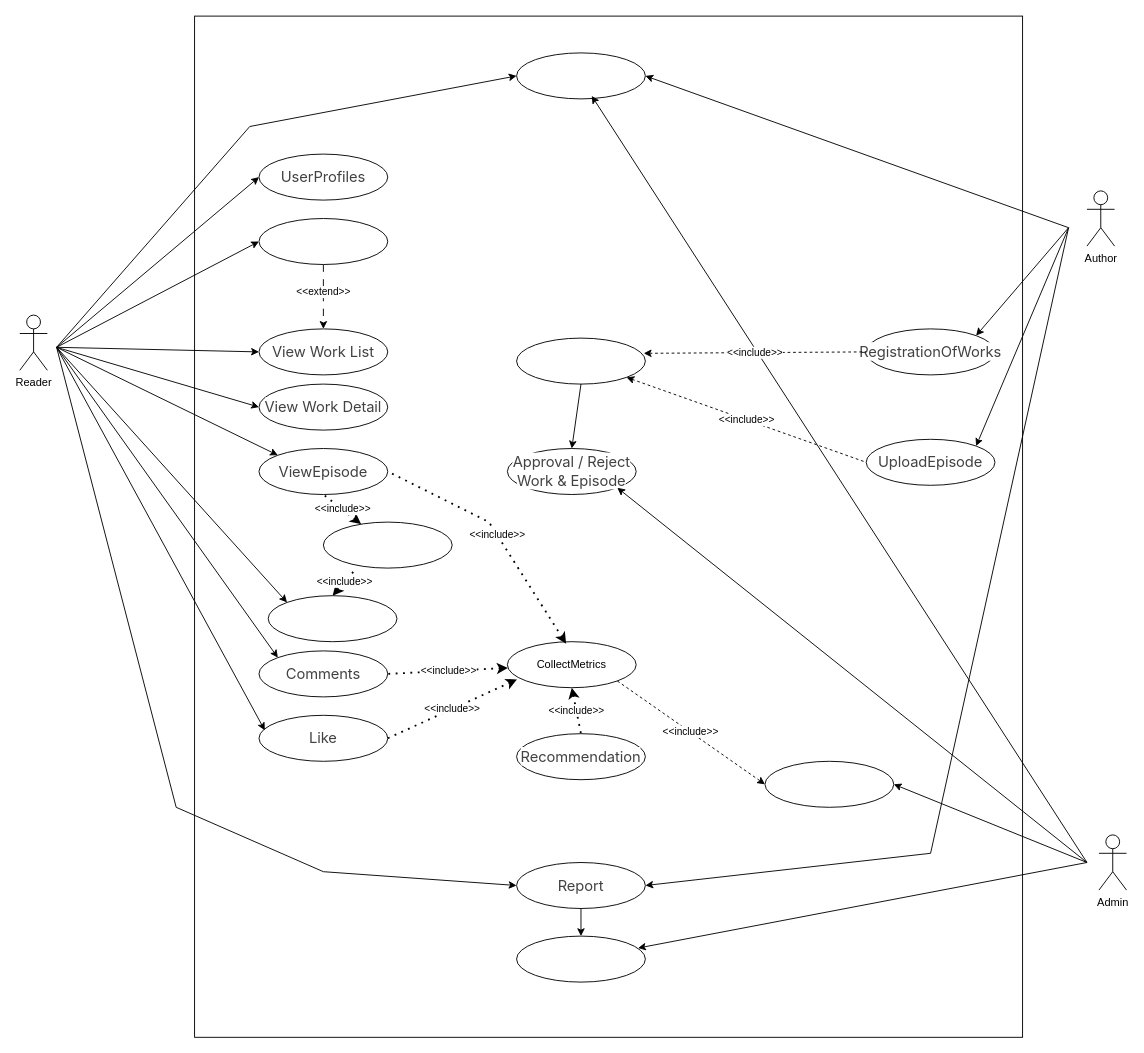
The diagram is 1144 pixels wide and 1053 high, and some of its shapes have lost their labels. Each missing label, with the centre of its shape:
"HandleReports" belongs at [580,958].
"Login / Signup" belongs at [580,75].
"Payment" belongs at [332,618].
"Point" belongs at [387,544].
"Search" belongs at [323,241].
"Submit For Approval" belongs at [580,360].
"View Statistics" belongs at [829,783].
